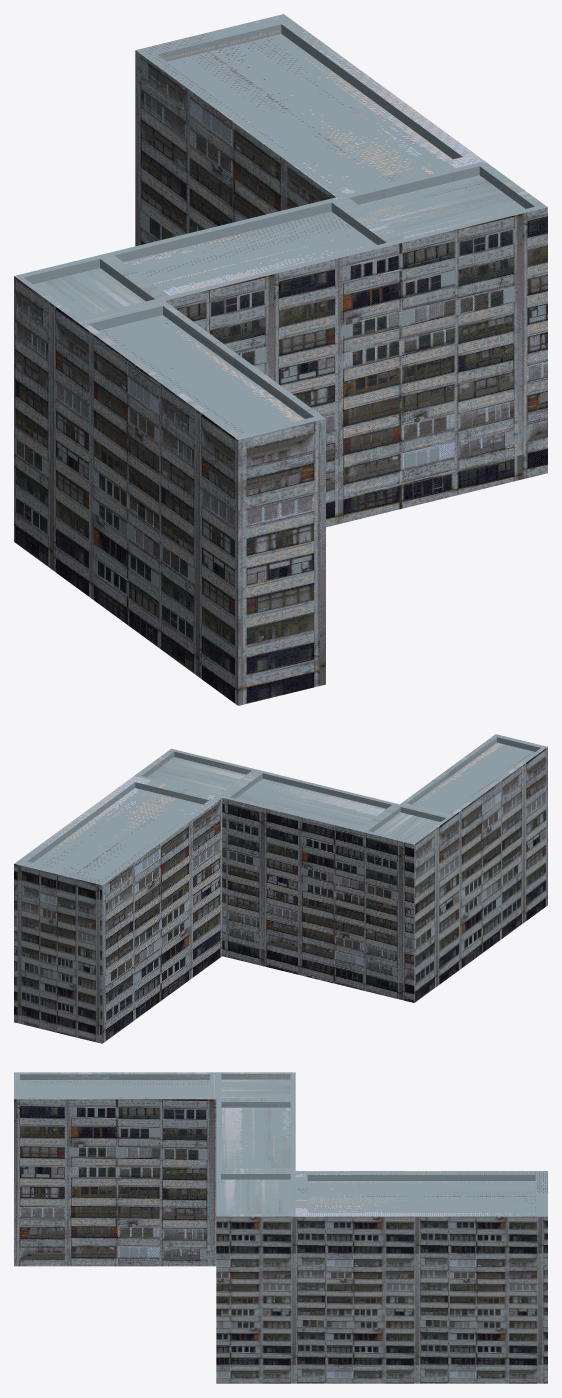
3 views of the same model, one above another, from view 1: azimuth 30°, elevation 25°; view 2: azimuth 150°, elevation 25°; view 3: azimuth 270°, elevation 25° (orthographic). The views are drawn at different scales.
Visible parts, largest first — view 1: pCube35; view 2: pCube35; view 3: pCube35.
Part boxes in pixels (x1,y1,x2,y2): pCube35: [14, 14, 547, 705]; pCube35: [14, 734, 547, 1043]; pCube35: [14, 1072, 547, 1383].
Size of the model in its own units: 1182 by 638 by 1848.
Materials: 2 (2 with a texture image).
